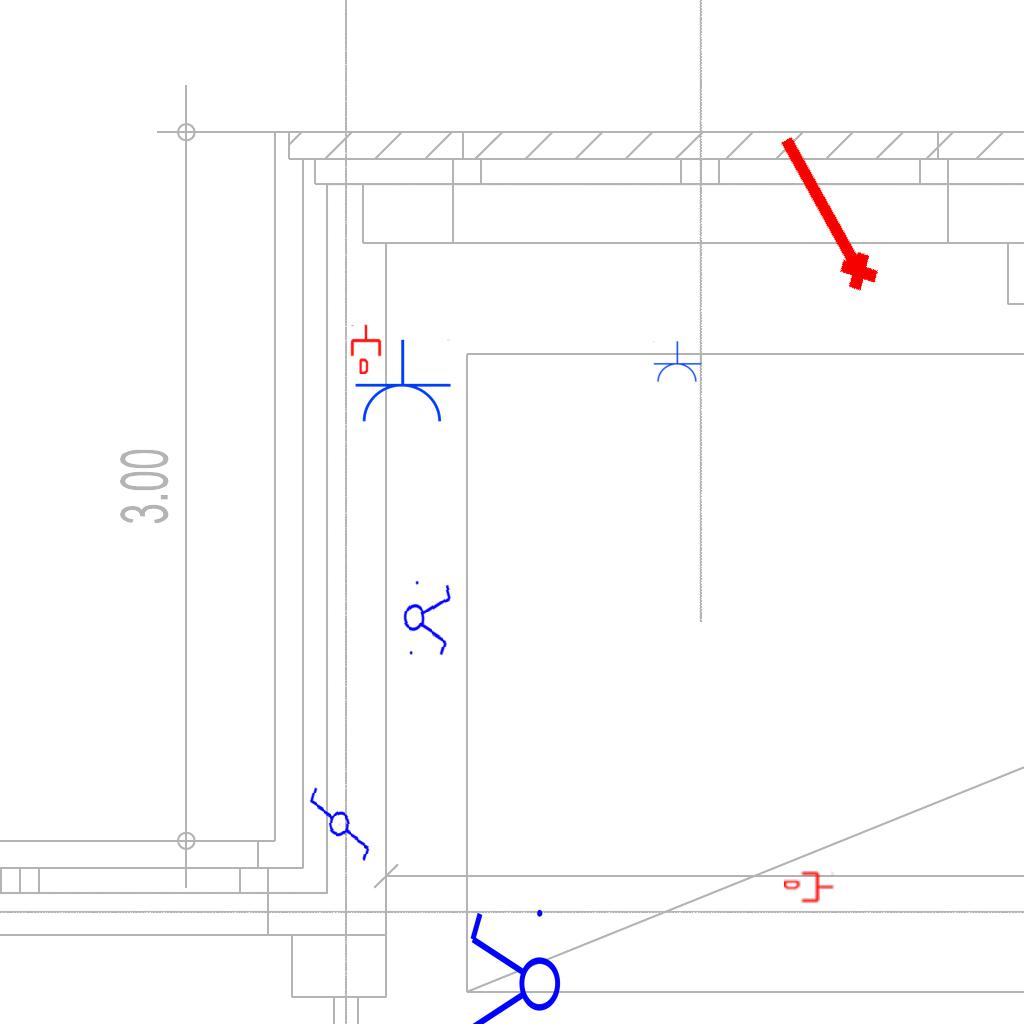ASR_Ansaugoeffnung: (761, 124, 887, 302)
Datenanschluss_einfach: (784, 870, 834, 904), (349, 324, 383, 374)
Schukosteckdose_einfach: (352, 339, 452, 426), (652, 341, 702, 384)
Serienschalter: (466, 901, 562, 1024), (399, 574, 455, 662)
Wechselschalter: (299, 776, 383, 864)
